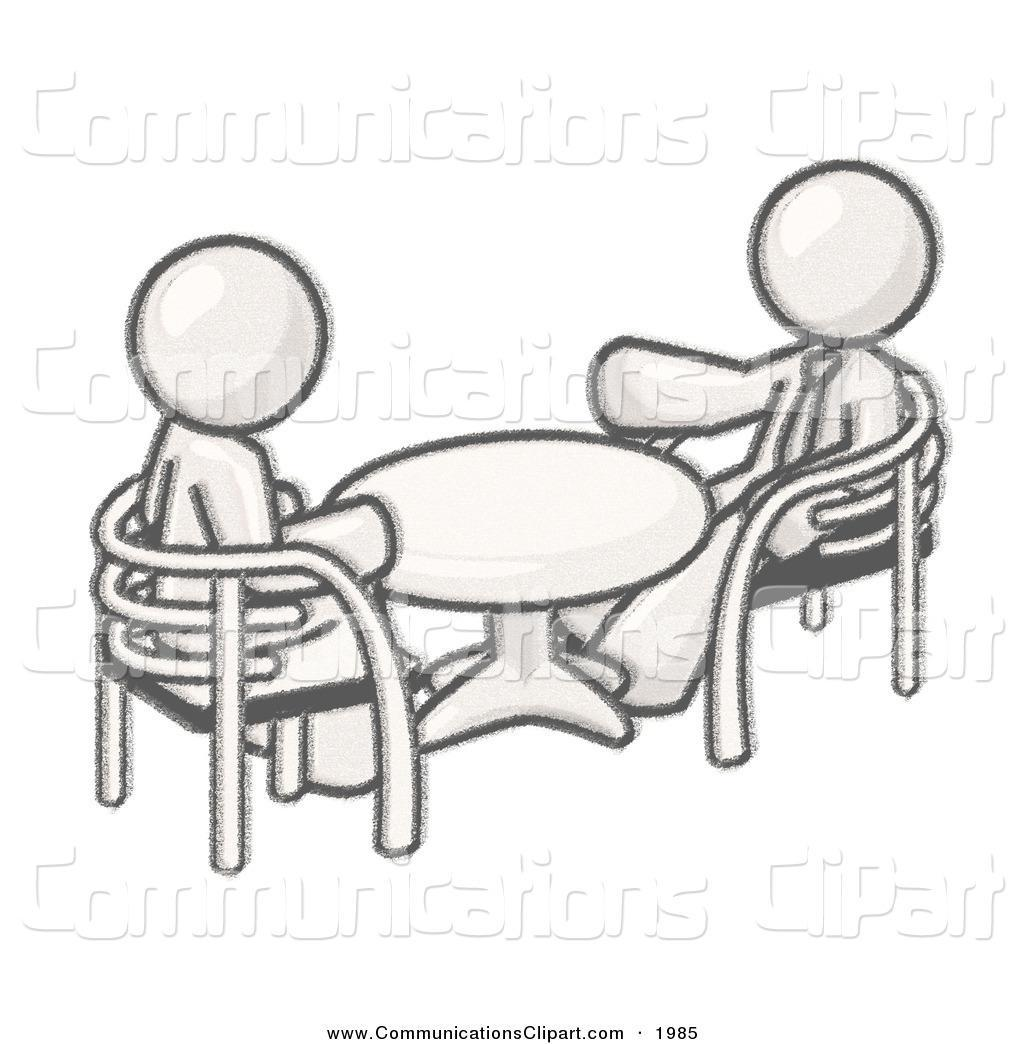chair: (85, 471, 435, 860), (656, 354, 956, 786)
diningtable: (302, 423, 714, 759)
person: (581, 159, 941, 713), (70, 207, 402, 798)
